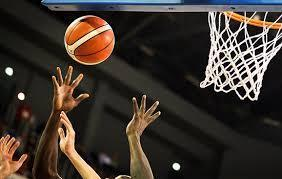ball: (65, 16, 115, 64)
rim: (200, 13, 282, 101)
